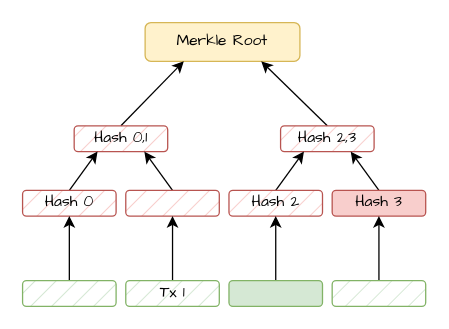
This 449x329 diagram has some shape labels left out. The centre of each missing label's shape, as x and y in pixels:
"Hash 1" goes at point (171, 202).
"Tx 0" goes at point (68, 292).
"Tx 2" goes at point (275, 292).
"Tx 3" goes at point (378, 292).
